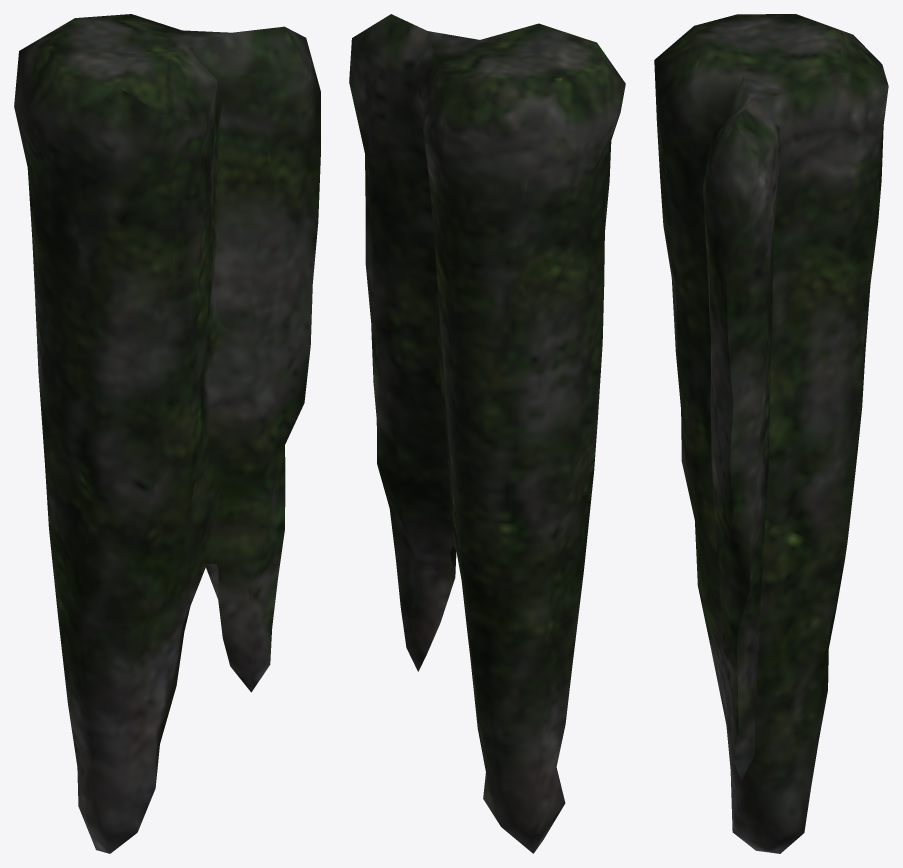
The model's file is MossRockTopA.fbx.
3 views of the same model, side by side, from view 1: azimuth 30°, elevation 25°; view 2: azimuth 150°, elevation 25°; view 3: azimuth 270°, elevation 25° (orthographic). The views are drawn at different scales.
Visible parts, largest first — view 1: CaveMossRockTop1; view 2: CaveMossRockTop1; view 3: CaveMossRockTop1.
Boxes of the visible parts, box(x1,y1,x2,y2) form: CaveMossRockTop1: box(14, 14, 320, 853); CaveMossRockTop1: box(349, 14, 625, 853); CaveMossRockTop1: box(654, 14, 888, 853).
Size of the model in its own units: 35.33 by 98.19 by 25.26.
Materials: 1 (1 with a texture image).
